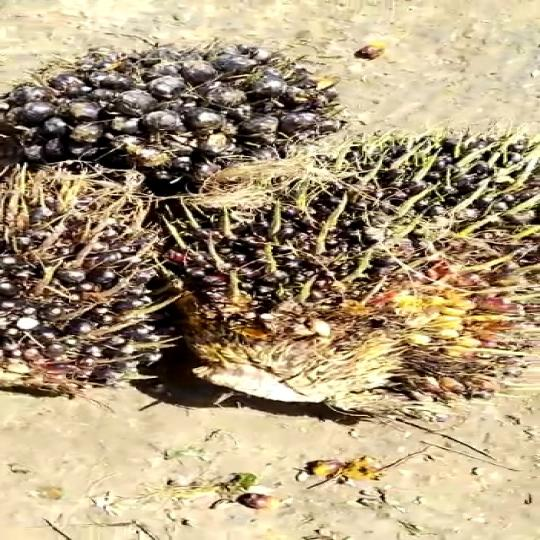mentah: (180, 108, 540, 424), (4, 36, 346, 204), (0, 145, 178, 410)
